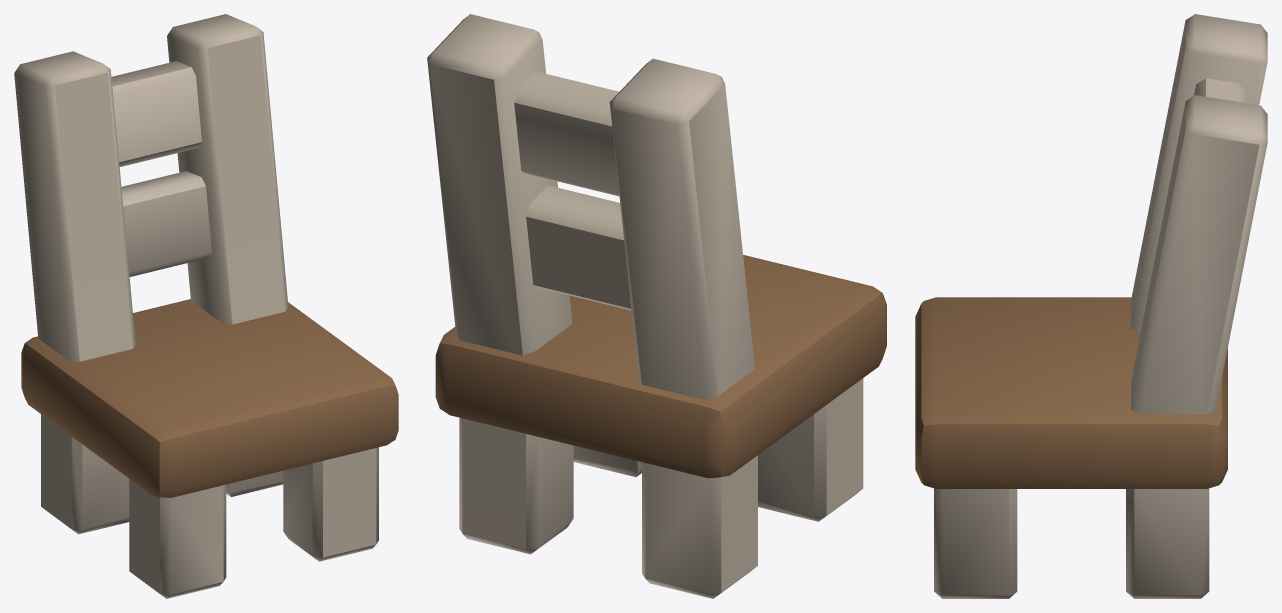
The model's file is chair_A_wood.obj.
3 renders of one model, left to right at view 1: azimuth 30°, elevation 25°; view 2: azimuth 150°, elevation 25°; view 3: azimuth 270°, elevation 25°, orthographic. The views are drawn at different scales.
Visible parts, largest first — view 1: chair_A_wood_Cube.036; view 2: chair_A_wood_Cube.036; view 3: chair_A_wood_Cube.036.
Part boxes in pixels (bbox=[...]): chair_A_wood_Cube.036: bbox=[14, 14, 398, 598]; chair_A_wood_Cube.036: bbox=[427, 14, 886, 598]; chair_A_wood_Cube.036: bbox=[915, 14, 1267, 598].
Size of the model in its own units: 0.75 by 1.26 by 0.8451.
Materials: 1 (1 with a texture image).
